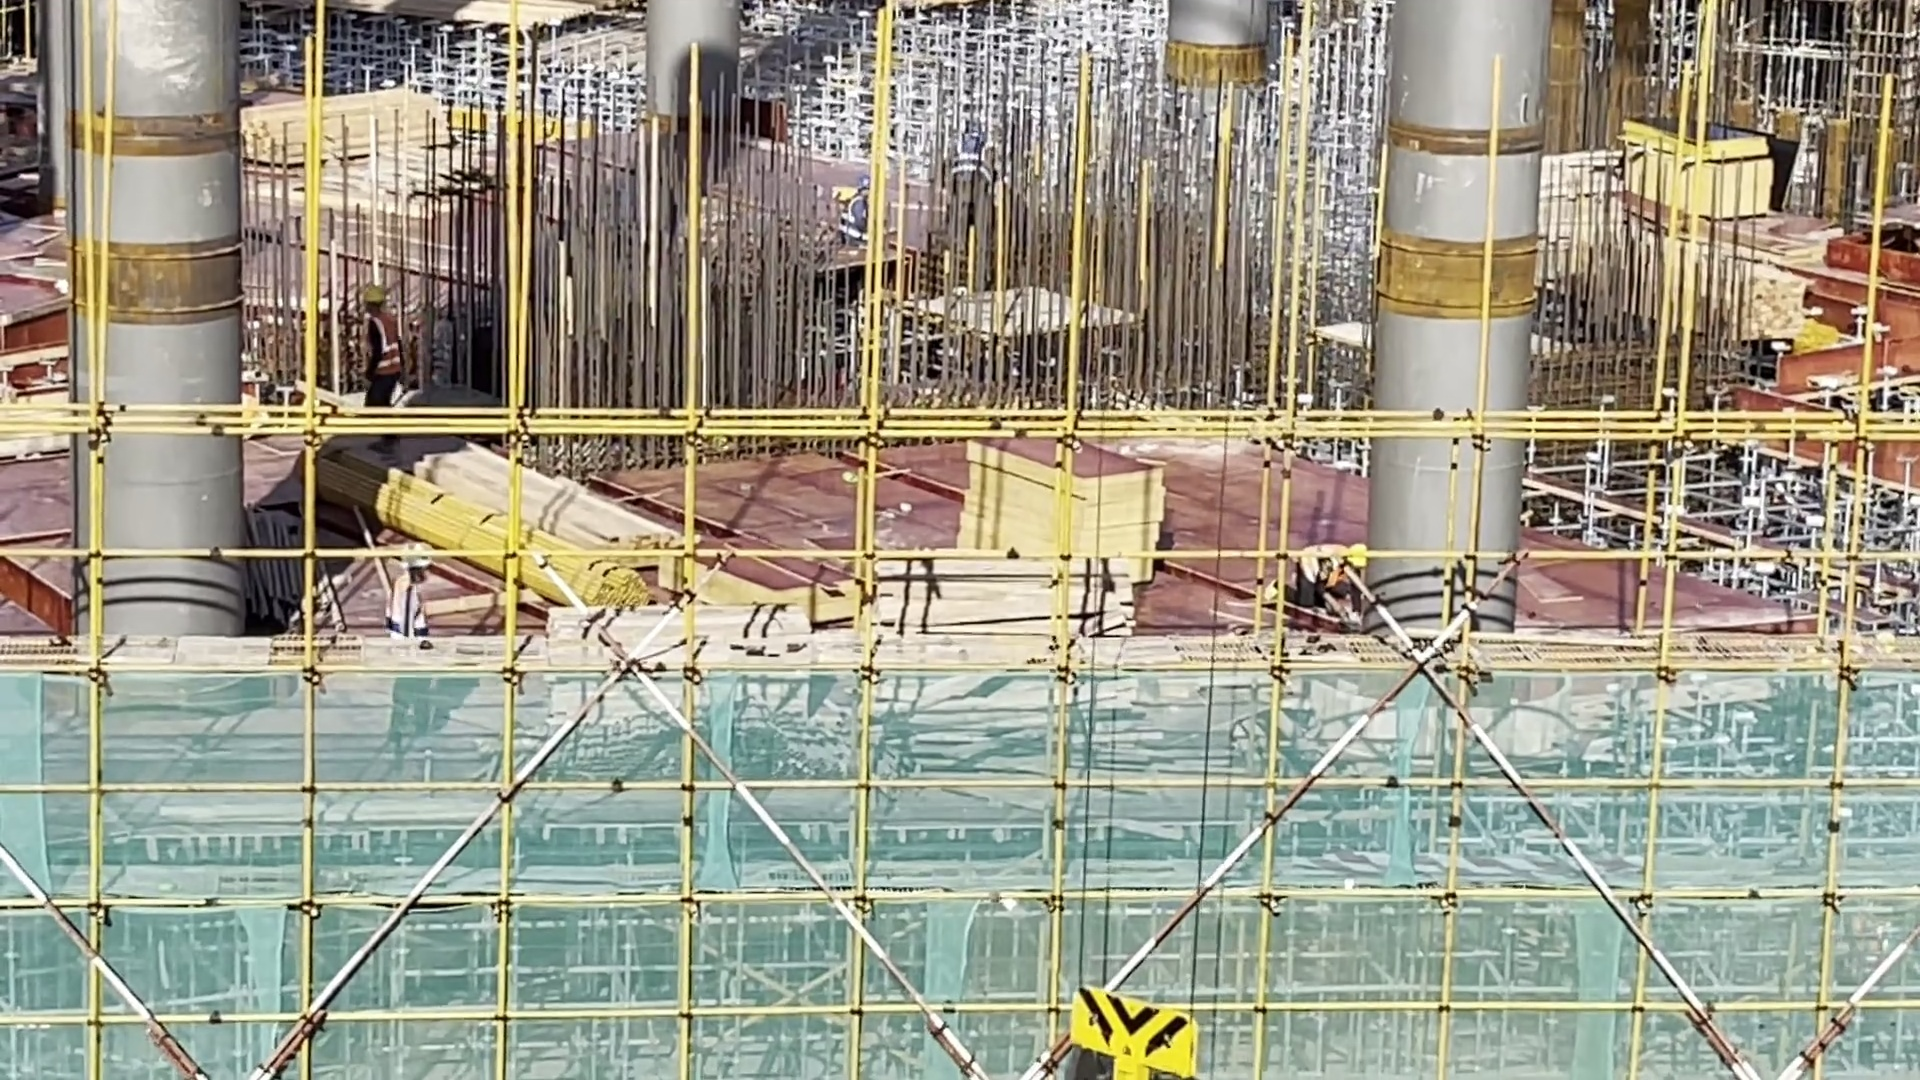board: (954, 441, 1167, 574), (1623, 107, 1769, 219)
helmet: (360, 283, 385, 303)
hook: (1066, 991, 1202, 1079)
person: (1286, 526, 1378, 624), (351, 277, 406, 408)
vest: (364, 313, 398, 377)
wood: (429, 451, 675, 607), (1739, 270, 1811, 342)
